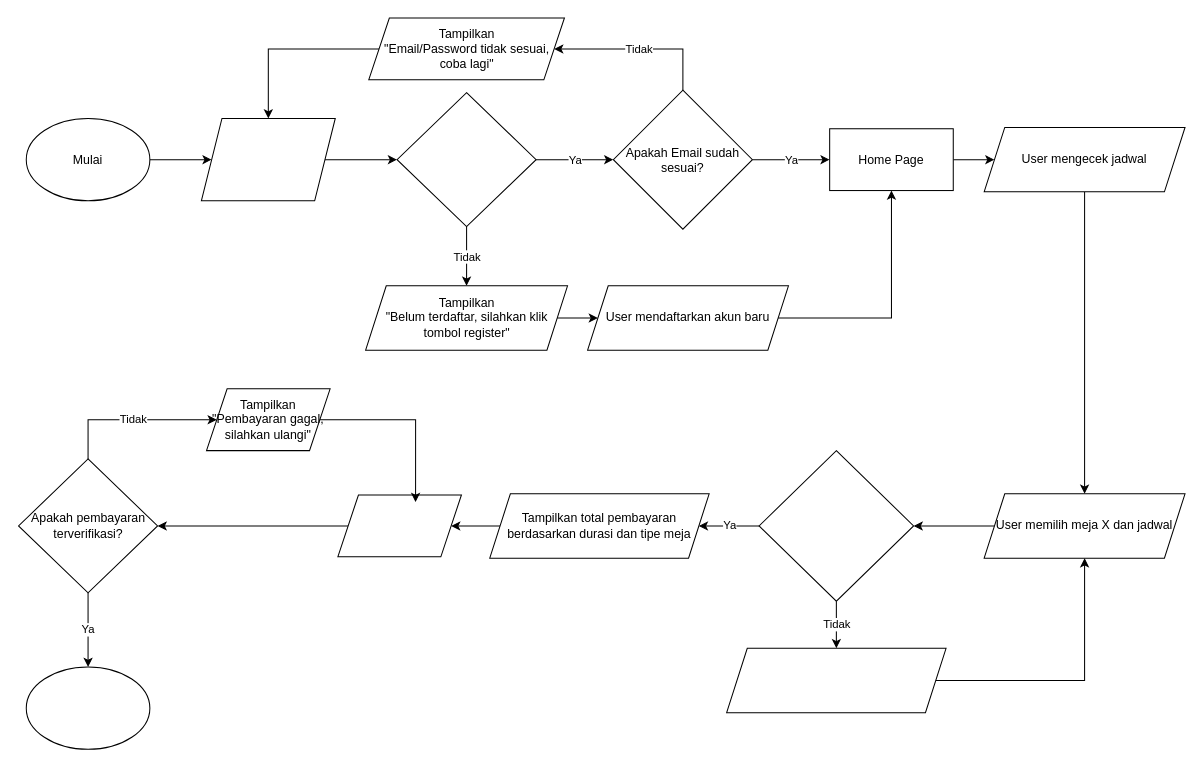
This 1203x767 diagram has some shape labels left out. Each missing label, with the centre of its shape:
Apakah Email sudah terdaftar?: [466,159]
Apakah meja X tersedia pada jam yang dipilih?: [836,525]
Selesai: [87,707]
Tampilkan "Jadwal sudah di booking, silahkan pilih di jam yang lain": [836,680]
User memasukkan email dan password: [267,159]
User Membayar Cashless: [399,525]
